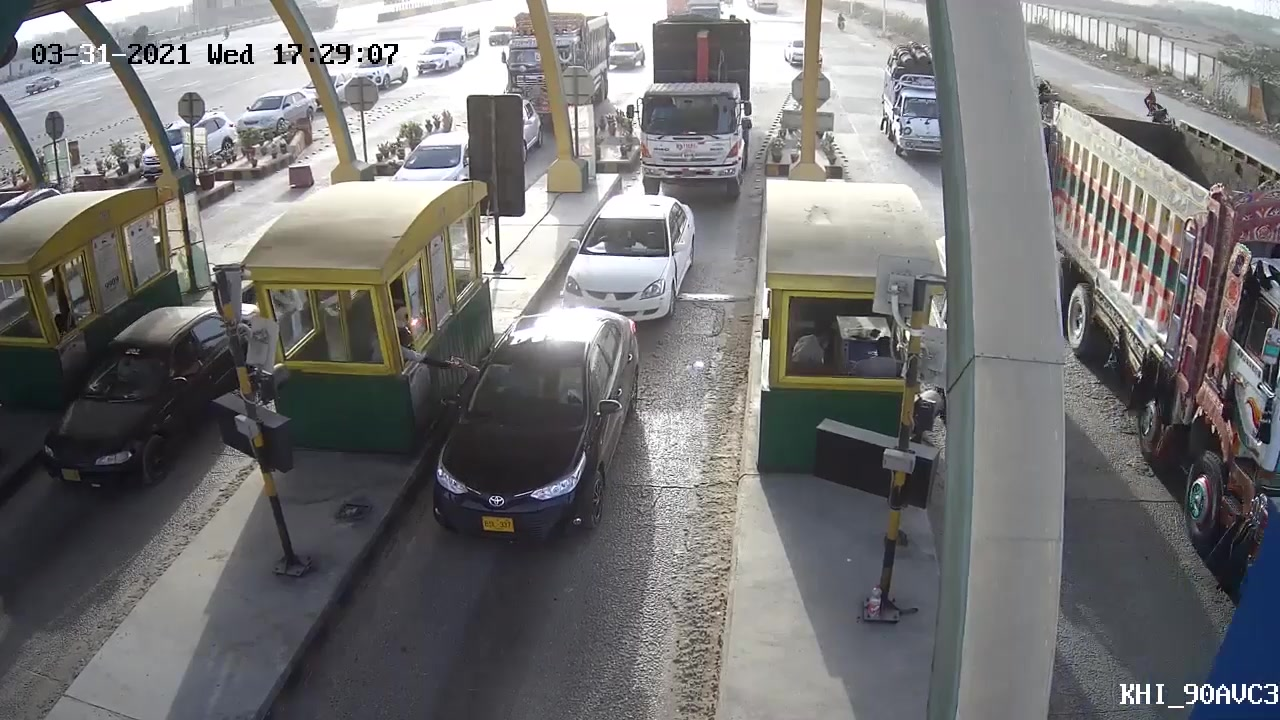F1: (425, 303, 640, 579)
